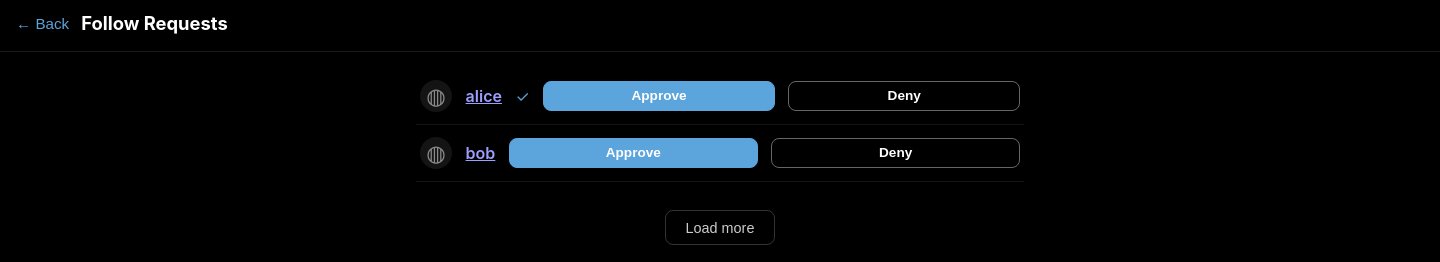
Test case: approving removes the row
This screenshot has width=1440, height=262.
What coordinates should you click on to do the following:
click the button with aria-label "Approve alice"
I would click on:
 (659, 96)
Its box is x1=543 y1=81 x2=775 y2=111.
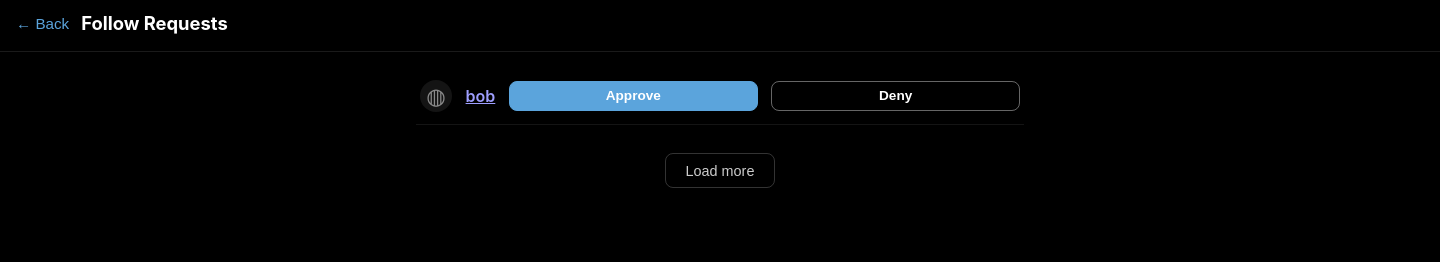
Expected: the link "bob" is shown, x1=466 y1=84 x2=495 y2=108
Result: the link "alice" is gone
